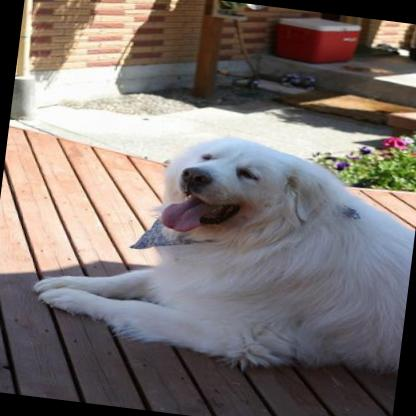Great_Pyrenees: (25, 115, 416, 385)
